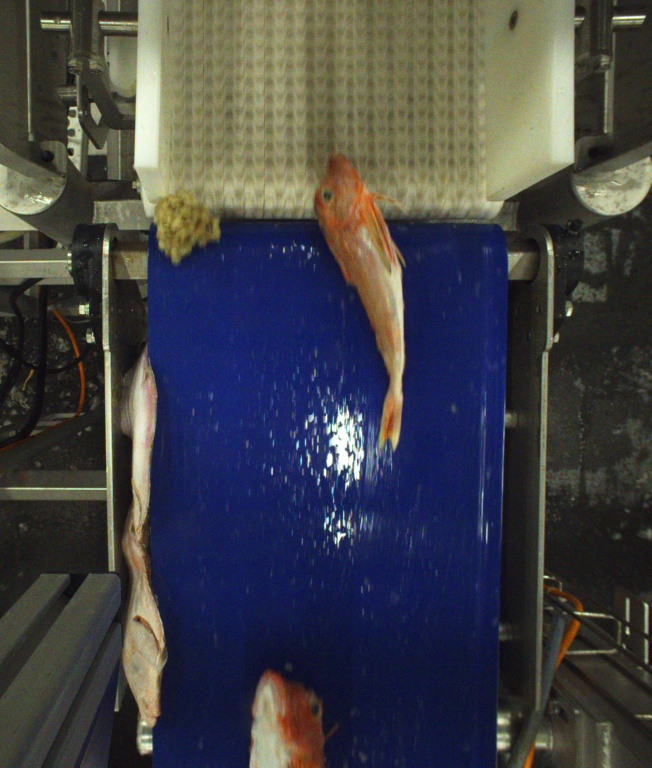GUU: (315, 154, 407, 449)
